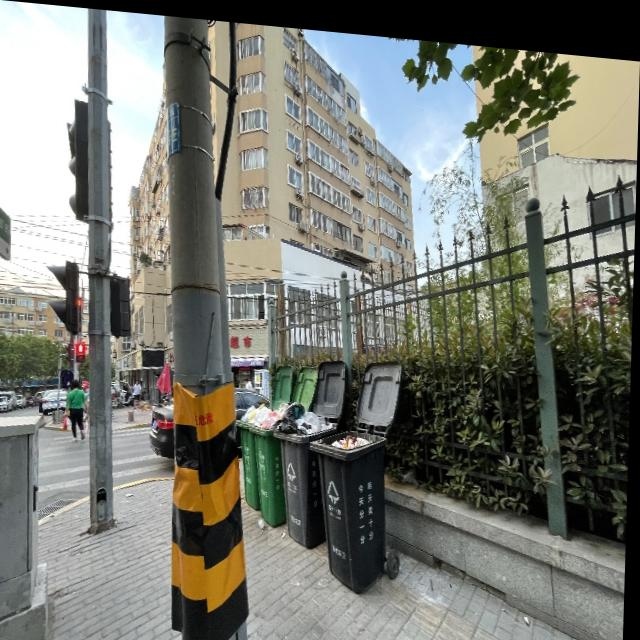overflow: (308, 418, 389, 588), (271, 394, 339, 544), (248, 393, 291, 522), (237, 395, 264, 504)
